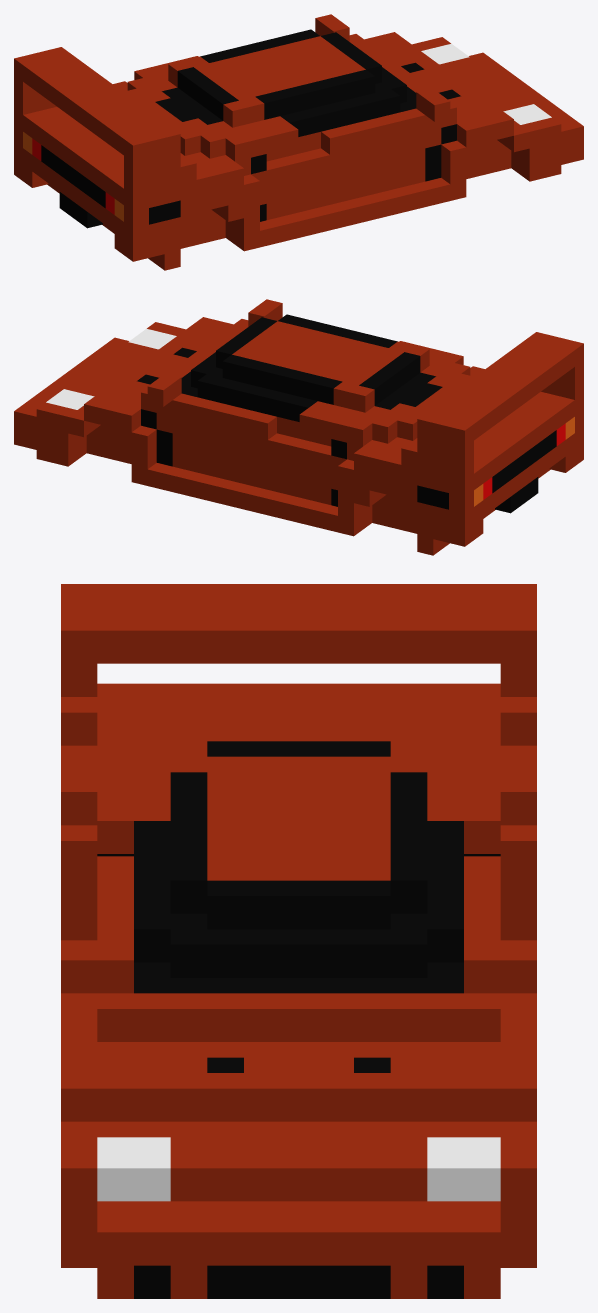
The model's file is model_free_dw.fbx.
3 renders of one model, top to bottom at view 1: azimuth 30°, elevation 25°; view 2: azimuth 150°, elevation 25°; view 3: azimuth 270°, elevation 25°, orthographic. The views are drawn at different scales.
Visible parts, largest first — view 1: model_free_dw; view 2: model_free_dw; view 3: model_free_dw.
Part boxes in pixels (bbox=[...]): model_free_dw: bbox=[14, 14, 583, 270]; model_free_dw: bbox=[14, 299, 583, 555]; model_free_dw: bbox=[61, 584, 536, 1298].
Size of the model in its own units: 435 by 120 by 195.
